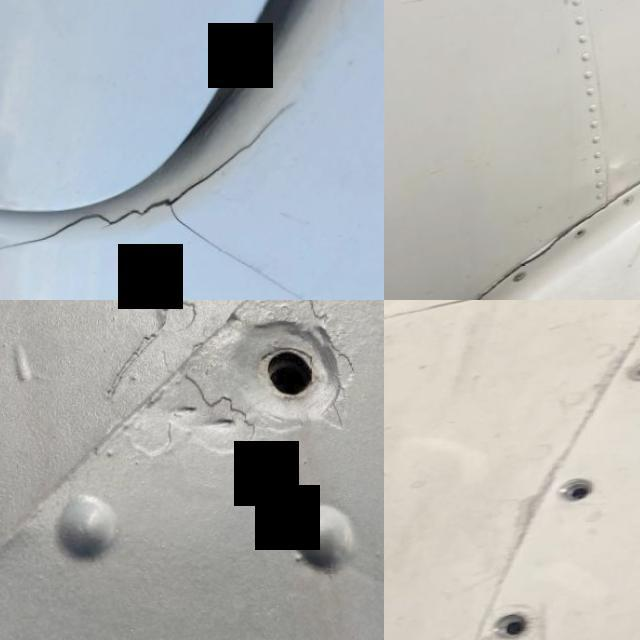Crack: (0, 88, 384, 300), (448, 262, 524, 300), (518, 230, 576, 270)
Missing_Fastener: (192, 300, 377, 459), (489, 609, 534, 640), (558, 478, 594, 502), (576, 230, 590, 242)
